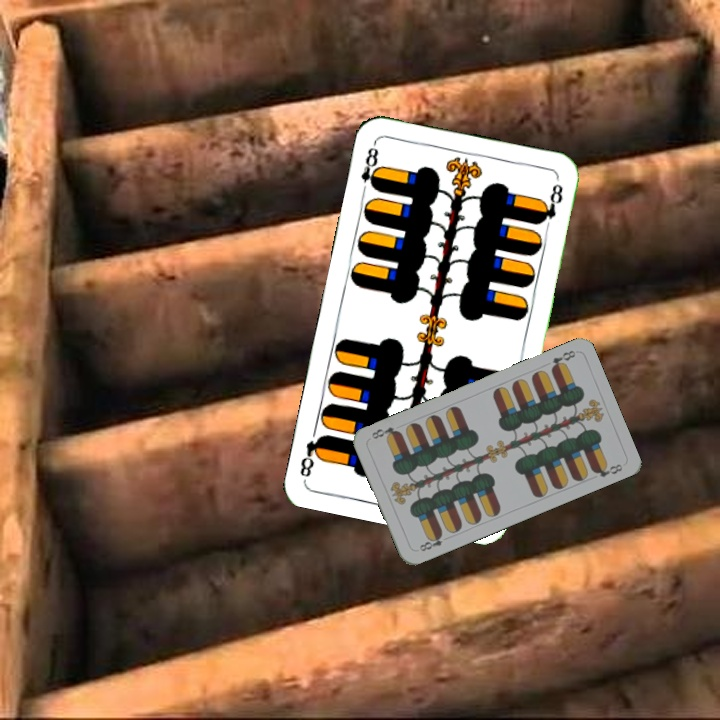E8: (357, 139, 384, 197), (415, 529, 452, 554), (547, 346, 578, 373)
